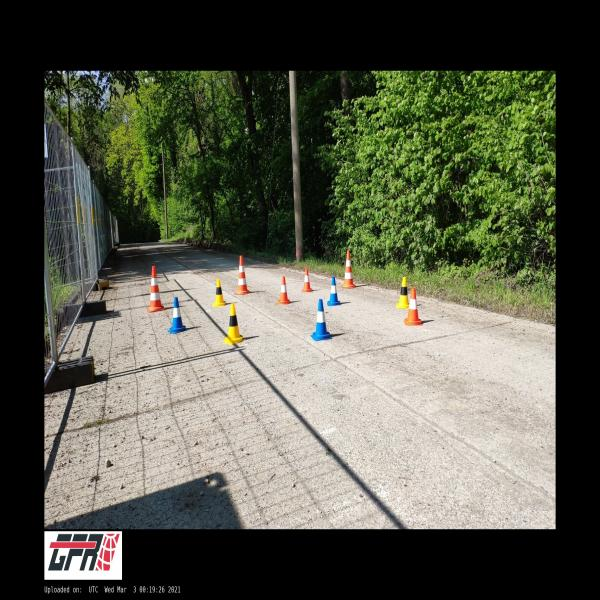blue_cone: (311, 299, 332, 341), (168, 297, 188, 334), (327, 277, 341, 306)
large_orange_cone: (147, 266, 165, 312), (234, 256, 251, 295), (341, 251, 356, 288)
orange_cone: (404, 288, 423, 326), (276, 277, 292, 304), (301, 268, 313, 292)
yellow_cone: (224, 304, 246, 346), (397, 278, 409, 308), (213, 279, 225, 307)
